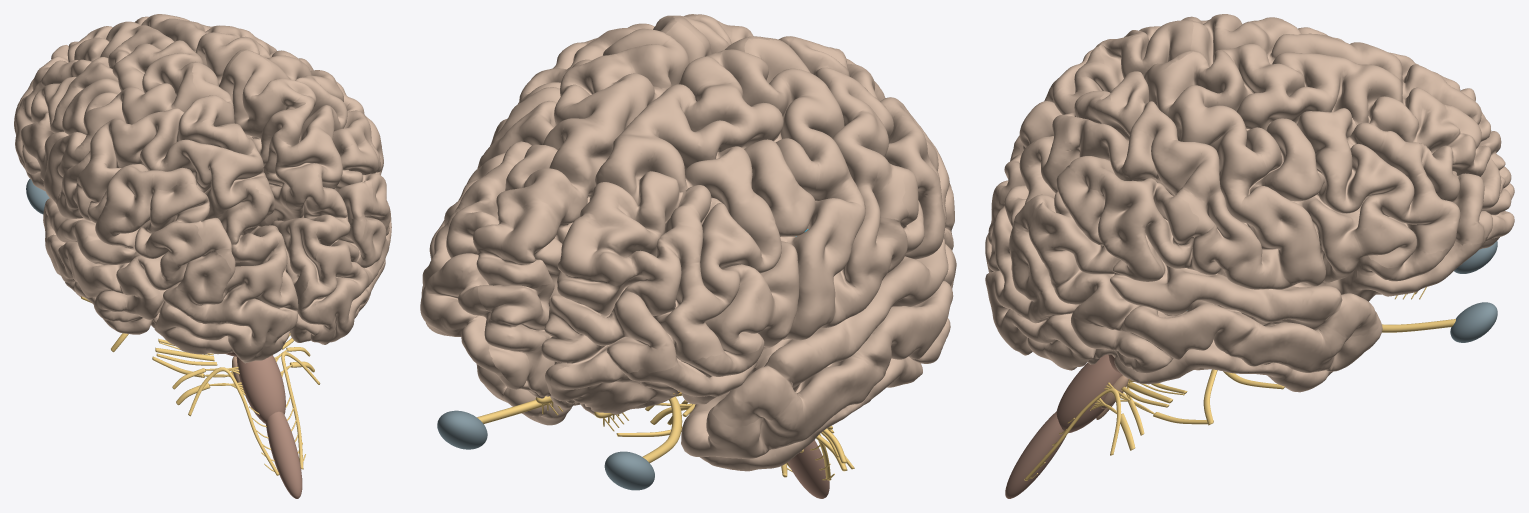
File: brain-cranial.glb
3 renders of one model, left to right at view 1: azimuth 30°, elevation 25°; view 2: azimuth 150°, elevation 25°; view 3: azimuth 270°, elevation 25°, orthographic. The views are drawn at different scales.
Parts seen in each view (by area): view 1: Occipital Lobe_Material.047_0, Occipital Lobe_Material.047_0__mirrored, Parietal Lobe_Material.042_0, Parietal Lobe2_Material.002_0, Pre Central_Material.048_0, Post Central_Material.049_0, Superior Frontal_Material.045_0, Supra Marginal_Material_0, Middle Frontal Gyrus_Material.043_0, Parietal Lobe_Material.042_0__mirrored, Middle Temporal_Material.040_0, Superior Frontal_Material.045_0__mirrored (+40 smaller); view 2: Superior Frontal_Material.045_0, Middle Frontal Gyrus_Material.043_0, Superior Frontal_Material.045_0__mirrored, Pre Central_Material.048_0, Middle Temporal_Material.040_0, Superior Temporal_Material.041_0, Middle Frontal Gyrus_Material.043_0__mirrored, Post Central_Material.049_0, Middle Frontal Gyrus3_Material.043_0, Lateral Orbital Frontal Cortex_Material.050_0, Supra Marginal_Material_0, Inferior Frontal Gyrus3_Material.044_0 (+30 smaller); view 3: Middle Frontal Gyrus_Material.043_0__mirrored, Superior Frontal_Material.045_0__mirrored, Pre Central_Material.048_0__mirrored, Middle Temporal_Material.040_0__mirrored, Superior Temporal_Material.041_0__mirrored, Post Central_Material.049_0__mirrored, Superior Frontal_Material.045_0, Supra Marginal_Material_0__mirrored, Parietal Lobe2_Material.002_0__mirrored, Occipital Lobe_Material.047_0__mirrored, Parietal Lobe_Material.042_0__mirrored, Inferior Temporal2_Material.046_0__mirrored (+29 smaller).
Part boxes in pixels (box(x1,y1,x2,y2)): Occipital Lobe_Material.047_0: box(154, 232, 298, 363); Occipital Lobe_Material.047_0__mirrored: box(290, 214, 385, 344); Parietal Lobe_Material.042_0: box(158, 139, 271, 244); Parietal Lobe2_Material.002_0: box(134, 184, 211, 290); Pre Central_Material.048_0: box(43, 63, 197, 206); Post Central_Material.049_0: box(57, 96, 220, 220); Superior Frontal_Material.045_0: box(51, 21, 203, 91); Supra Marginal_Material_0: box(80, 163, 155, 255); Middle Frontal Gyrus_Material.043_0: box(14, 56, 118, 140); Parietal Lobe_Material.042_0__mirrored: box(297, 105, 347, 219); Middle Temporal_Material.040_0: box(45, 229, 159, 298); Superior Frontal_Material.045_0__mirrored: box(134, 14, 269, 100); Superior Frontal_Material.045_0: box(557, 38, 783, 315); Middle Frontal Gyrus_Material.043_0: box(577, 146, 781, 373); Superior Frontal_Material.045_0__mirrored: box(473, 21, 705, 288); Pre Central_Material.048_0: box(749, 38, 865, 347); Middle Temporal_Material.040_0: box(706, 244, 956, 458); Superior Temporal_Material.041_0: box(712, 238, 948, 427); Middle Frontal Gyrus_Material.043_0__mirrored: box(420, 101, 556, 330); Post Central_Material.049_0: box(789, 37, 907, 313); Middle Frontal Gyrus3_Material.043_0: box(744, 134, 820, 236); Lateral Orbital Frontal Cortex_Material.050_0: box(550, 346, 680, 414); Supra Marginal_Material_0: box(885, 118, 945, 259); Inferior Frontal Gyrus3_Material.044_0: box(705, 279, 775, 354); Middle Frontal Gyrus_Material.043_0__mirrored: box(1297, 108, 1500, 253); Superior Frontal_Material.045_0__mirrored: box(1193, 44, 1490, 176); Pre Central_Material.048_0__mirrored: box(1153, 51, 1325, 289); Middle Temporal_Material.040_0__mirrored: box(1072, 274, 1382, 372); Superior Temporal_Material.041_0__mirrored: box(1110, 259, 1380, 339); Post Central_Material.049_0__mirrored: box(1110, 74, 1264, 289); Superior Frontal_Material.045_0: box(1190, 17, 1491, 141); Supra Marginal_Material_0__mirrored: box(1098, 171, 1199, 281); Parietal Lobe2_Material.002_0__mirrored: box(1028, 166, 1120, 304); Occipital Lobe_Material.047_0__mirrored: box(985, 189, 1096, 370); Parietal Lobe_Material.042_0__mirrored: box(1019, 115, 1128, 204); Inferior Temporal2_Material.046_0__mirrored: box(1071, 313, 1292, 379).
Size of the model in its own units: 10212 by 12562 by 13000.
